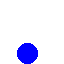circle: (17, 43, 37, 63)
